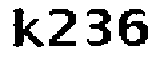2: (48, 7, 77, 50)
3: (81, 6, 113, 48)
6: (118, 6, 149, 48)
k: (8, 4, 45, 51)
